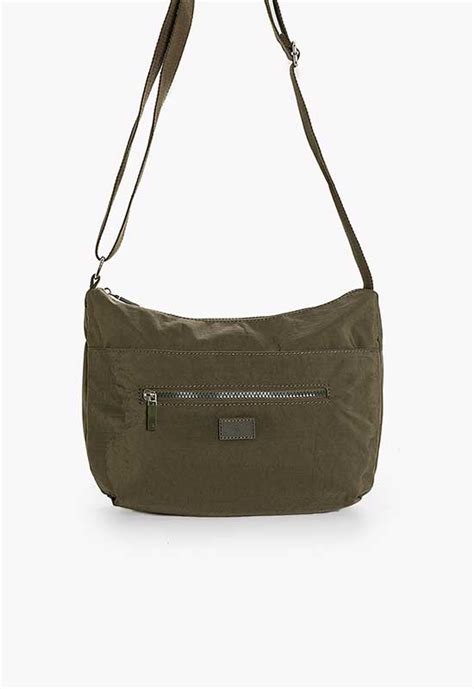nylon: (80, 285, 387, 519)
